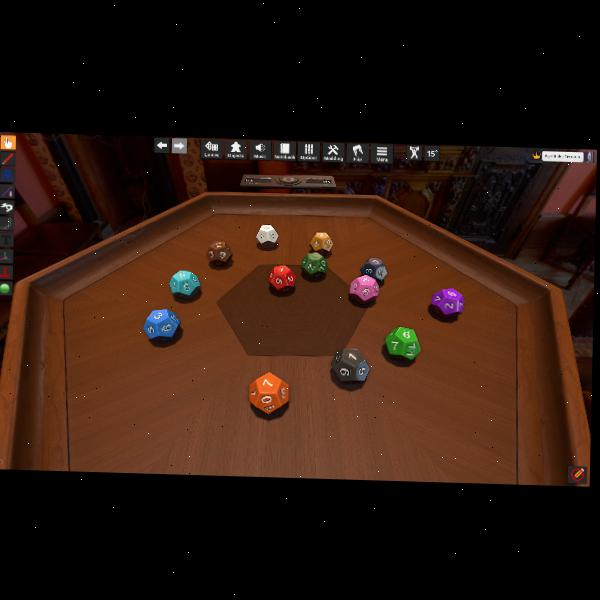d12: (250, 369, 291, 410), (330, 349, 368, 385), (144, 308, 180, 342), (429, 286, 464, 318), (385, 327, 416, 360), (169, 268, 200, 299), (349, 274, 379, 304), (267, 265, 295, 294), (359, 256, 387, 282), (301, 251, 328, 276), (206, 241, 231, 266), (256, 224, 278, 246), (310, 231, 332, 252)
